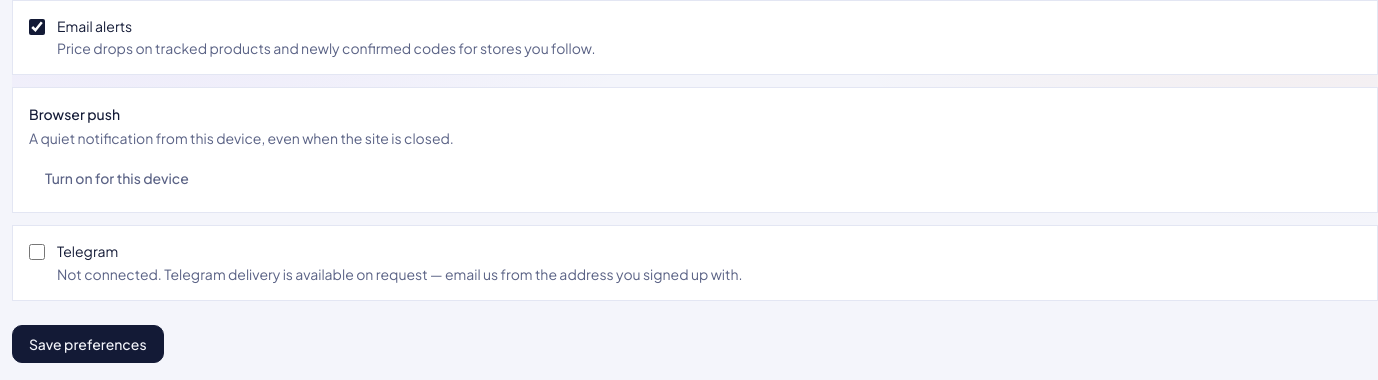
Test: NotificationSettings › turning push on › reports a refused permission instead of claiming push is on
This screenshot has width=1378, height=380.
Click the button "Turn on for this device": (117, 178) [29,160,205,196]
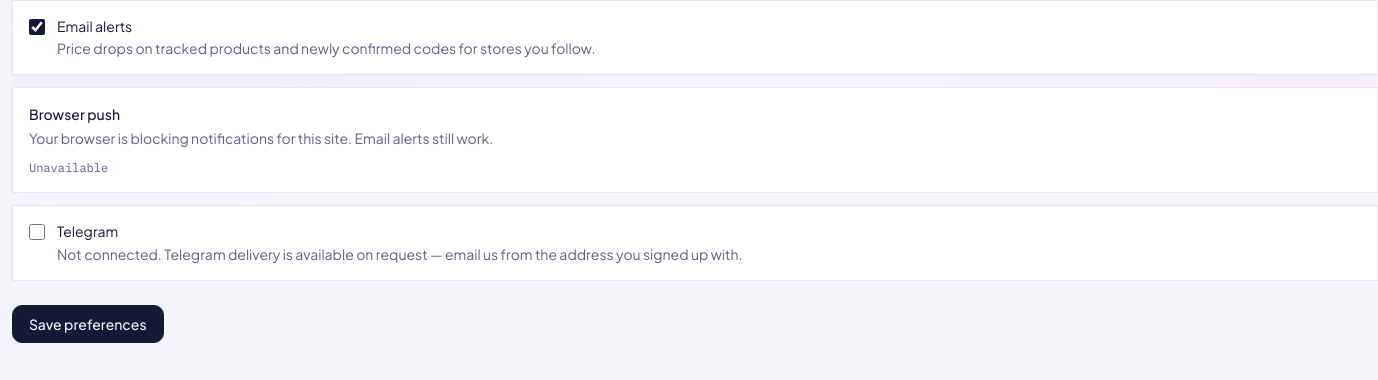
Now the text "blocking notifications" is shown, box [29,129,493,147]
